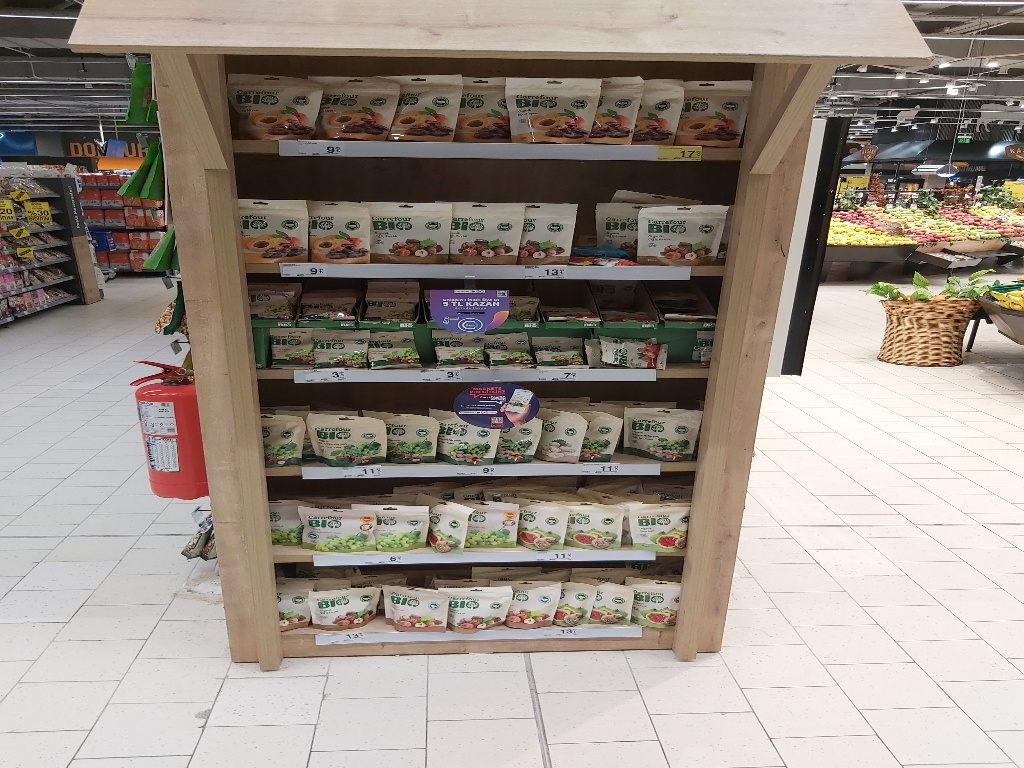urun: (498, 72, 602, 138), (439, 191, 521, 259), (316, 67, 399, 134), (364, 193, 445, 261), (640, 201, 733, 259), (676, 72, 746, 143), (238, 187, 306, 256), (302, 192, 370, 261), (620, 403, 703, 457), (307, 411, 393, 462), (401, 64, 461, 133), (581, 315, 664, 362), (291, 500, 381, 543), (424, 285, 513, 326), (632, 68, 684, 137), (595, 72, 646, 141), (524, 198, 581, 259), (458, 68, 509, 136), (445, 577, 515, 626), (433, 406, 498, 458), (311, 580, 380, 628), (379, 579, 448, 627), (622, 495, 684, 541), (255, 408, 302, 468), (566, 499, 627, 545), (471, 498, 524, 550), (518, 497, 571, 549), (385, 411, 439, 462), (541, 404, 588, 460), (513, 575, 563, 627), (244, 282, 306, 323), (302, 282, 364, 323), (634, 571, 677, 630), (365, 282, 426, 323), (428, 330, 492, 367), (310, 324, 370, 362), (369, 324, 429, 362), (381, 502, 431, 545), (265, 324, 314, 367), (430, 499, 475, 545), (559, 576, 602, 622), (589, 576, 631, 622), (590, 396, 618, 458), (484, 333, 532, 366)
urun2: (234, 65, 323, 136)
